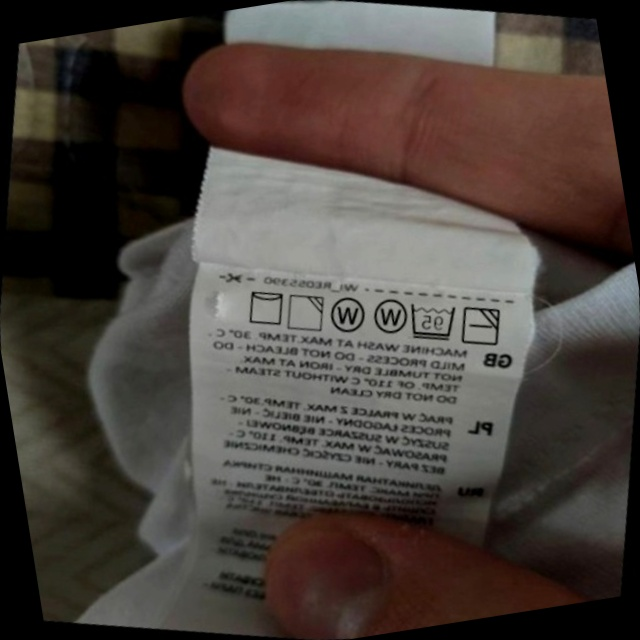95C: (400, 292, 464, 350)
dry_flat_in_shade: (454, 297, 509, 354)
line_dry: (238, 280, 292, 334)
shade_dry: (279, 285, 332, 340)
wet_clean: (364, 288, 415, 342), (322, 289, 373, 342)
